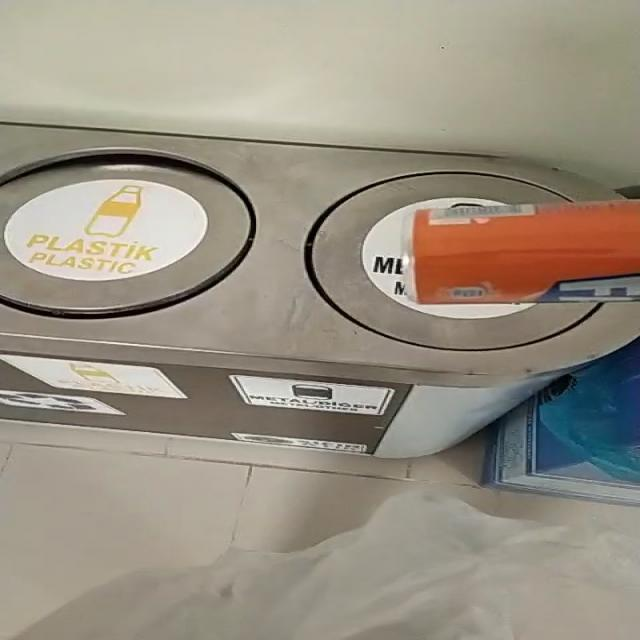bin: (0, 124, 640, 459)
metal: (412, 200, 640, 304)
